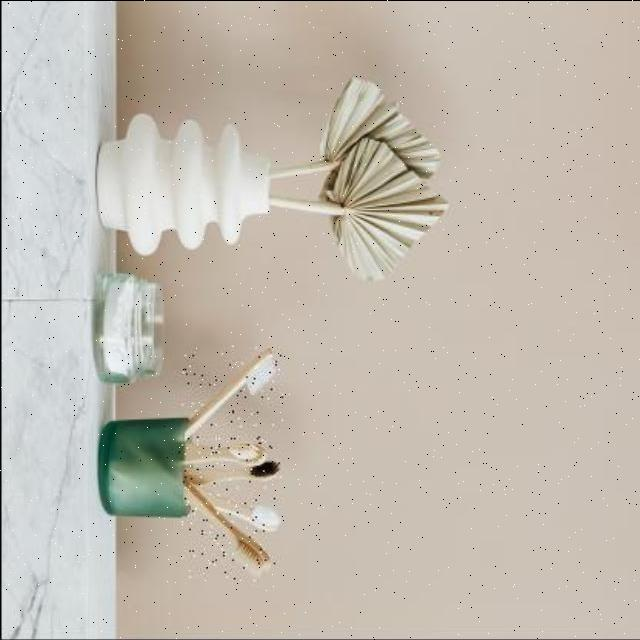toothbrush: (180, 476, 274, 584), (178, 346, 282, 430), (180, 486, 286, 540), (180, 456, 286, 498), (178, 437, 270, 475)
